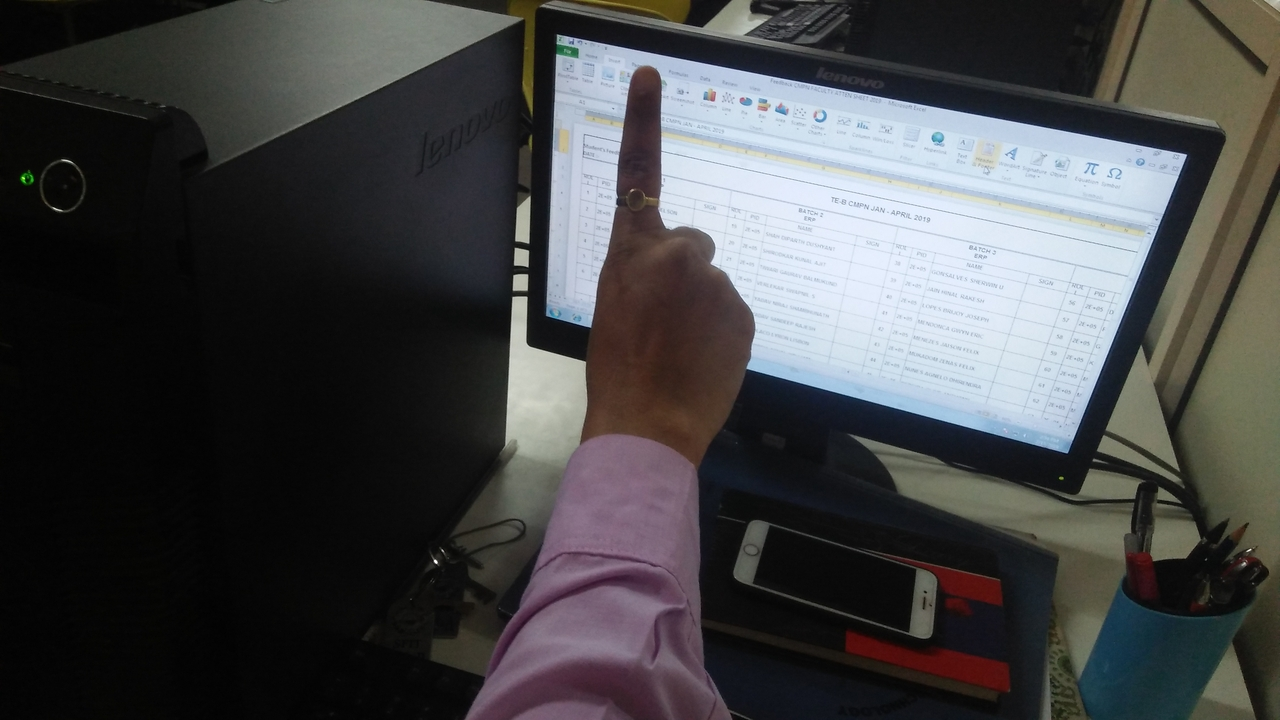fingertip: (620, 58, 668, 98)
